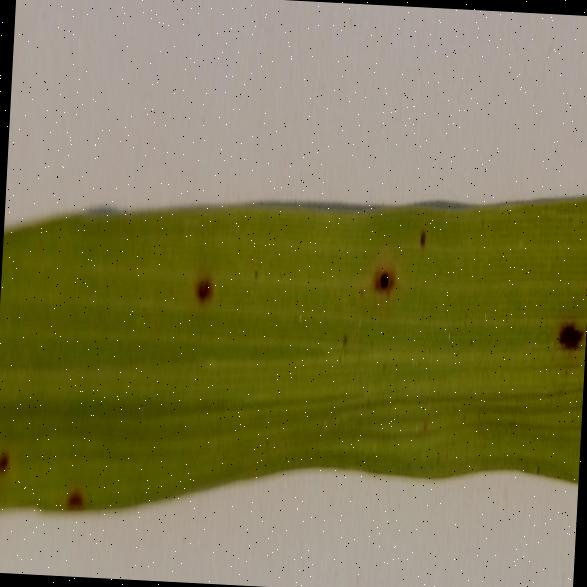Brown_Spot: (182, 250, 223, 310), (360, 255, 406, 304), (552, 302, 586, 364), (52, 469, 90, 516), (0, 441, 14, 491), (416, 218, 429, 264)
